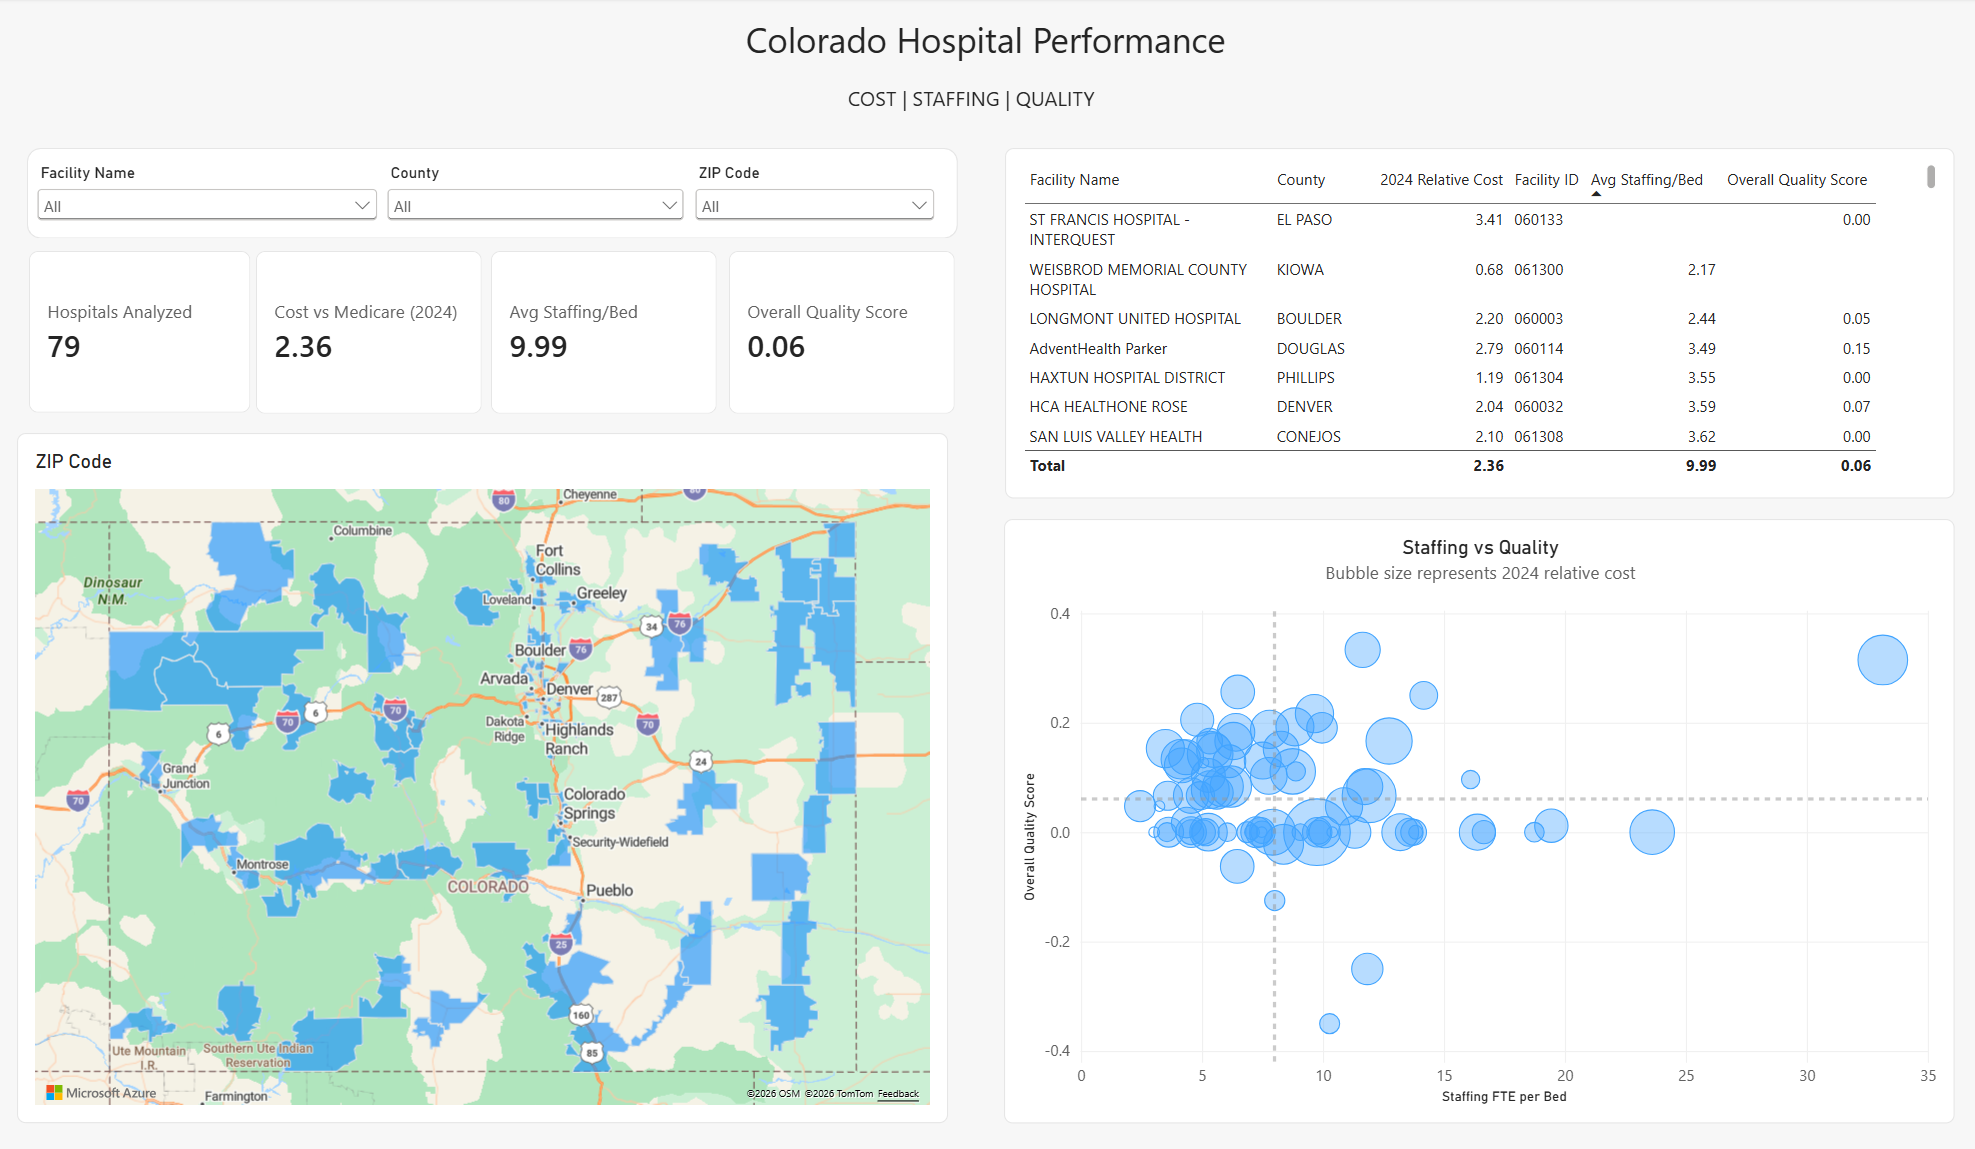

The dashboard page shown, as its layout file describes it:
{"tool":"powerbi","page":{"name":"Hospital Performance","canvas":[1920,1080],"ordinal":0},"visuals":[{"type":"textbox","box":[615.6,15.5,609.4,63.9],"z":0},{"type":"textbox","box":[793,79.4,255.7,41.2],"z":1000},{"type":"shape","box":[36.5,138.2,857.8,83.4],"z":2000},{"type":"slicer","fields":{"Values":["Hospital Info CO.Facility Name"]},"box":[41.3,153,322.7,83.5],"z":3000},{"type":"slicer","fields":{"Values":["Hospital Info CO.County/Parish"]},"box":[364.4,153.1,283.3,83.4],"z":4000},{"type":"slicer","fields":{"Values":["Hospital Info CO.ZIP Code"]},"box":[647.6,153.1,229.6,83.4],"z":5000},{"type":"cardVisual","fields":{"Data":["CIVHC Relative Cost Final.Hospitals with 2024 Cost Data"]},"box":[39,233.1,204.4,149.6],"z":6000},{"type":"cardVisual","fields":{"Data":["CIVHC Relative Cost Final.2024 Relative Cost"]},"box":[248.3,233.1,208.1,150.3],"z":7000},{"type":"cardVisual","fields":{"Data":["Hospital Staffing.Avg Staffing per Bed - Cost Hospitals"]},"box":[464.9,233.1,208.1,150.3],"z":8000},{"type":"cardVisual","fields":{"Data":["Hospital Info CO.Overall Quality Score - 2024 Cost Hospitals"]},"box":[683.5,233.1,208.1,150.3],"z":9000},{"type":"tableEx","fields":{"Values":["Hospital Info CO.Facility Name","Hospital Info CO.County/Parish","CIVHC Relative Cost Final.2024 Relative Cost","CIVHC Relative Cost Final.Facility ID","Hospital Staffing.Avg Staffing per Bed - Cost Hospitals","Hospital Info CO.Overall Quality Score - 2024 Cost Hospitals"]},"box":[938.1,138.2,875.4,323.4],"z":10000},{"type":"azureMap","fields":{"Category":["Hospital Info CO.ZIP Code"]},"box":[27.4,400.9,857.8,636.2],"z":11000},{"type":"scatterChart","title":"Staffing vs Quality","fields":{"Category":["Hospital Info CO.Facility Name"],"Size":["CIVHC Relative Cost Final.Relative Cost Bubble Size"],"X":["Hospital Staffing.Staffing FTE per Bed"],"Y":["Hospital Info CO.Overall Quality Score"]},"box":[937.3,480.5,876.5,551.7],"z":12000}]}

Visuals, with their boxes on the page's 1920x1080 design canvas (x1, y1, x2, y2). These are canvas units, not pixel positions in the 1975x1149 screenshot, which may show the page scaled, cropped or inside an application window:
textbox: bbox=(616, 16, 1225, 79)
textbox: bbox=(793, 79, 1049, 121)
shape: bbox=(36, 138, 894, 222)
slicer - Hospital Info CO.Facility Name: bbox=(41, 153, 364, 236)
slicer - Hospital Info CO.County/Parish: bbox=(364, 153, 648, 236)
slicer - Hospital Info CO.ZIP Code: bbox=(648, 153, 877, 236)
cardVisual - CIVHC Relative Cost Final.Hospitals with 2024 Cost Data: bbox=(39, 233, 243, 383)
cardVisual - CIVHC Relative Cost Final.2024 Relative Cost: bbox=(248, 233, 456, 383)
cardVisual - Hospital Staffing.Avg Staffing per Bed - Cost Hospitals: bbox=(465, 233, 673, 383)
cardVisual - Hospital Info CO.Overall Quality Score - 2024 Cost Hospitals: bbox=(684, 233, 892, 383)
tableEx - Hospital Info CO.Facility Name x Hospital Info CO.County/Parish: bbox=(938, 138, 1814, 462)
azureMap - Hospital Info CO.ZIP Code: bbox=(27, 401, 885, 1037)
"Staffing vs Quality" scatterChart: bbox=(937, 480, 1814, 1032)
